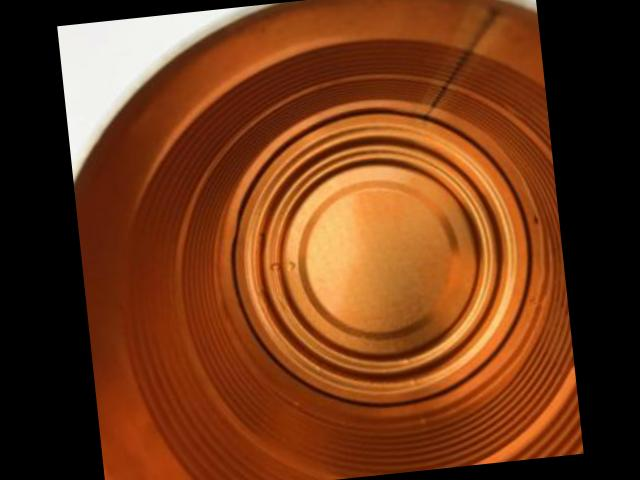metal: (73, 0, 584, 480)
